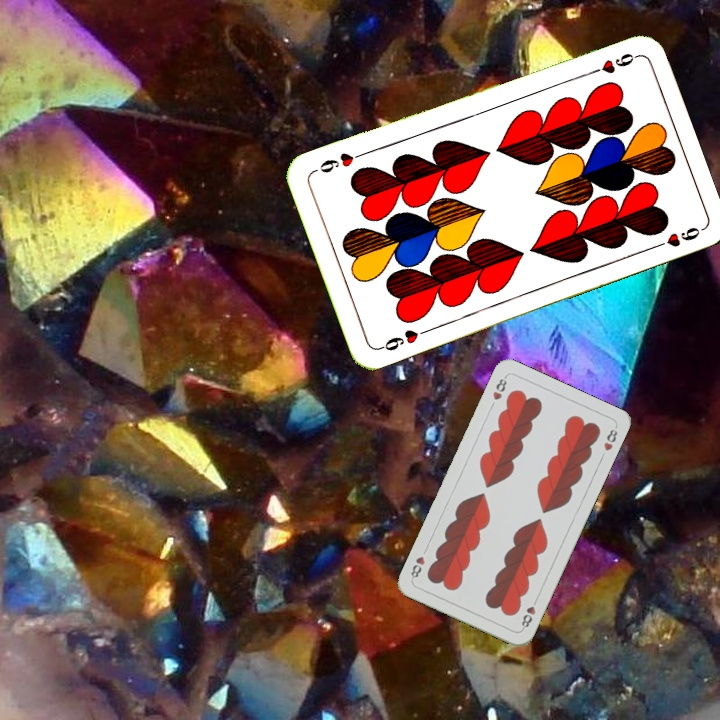H8: (517, 594, 540, 632), (488, 372, 509, 403)
H9: (582, 49, 640, 79), (374, 325, 432, 354)
